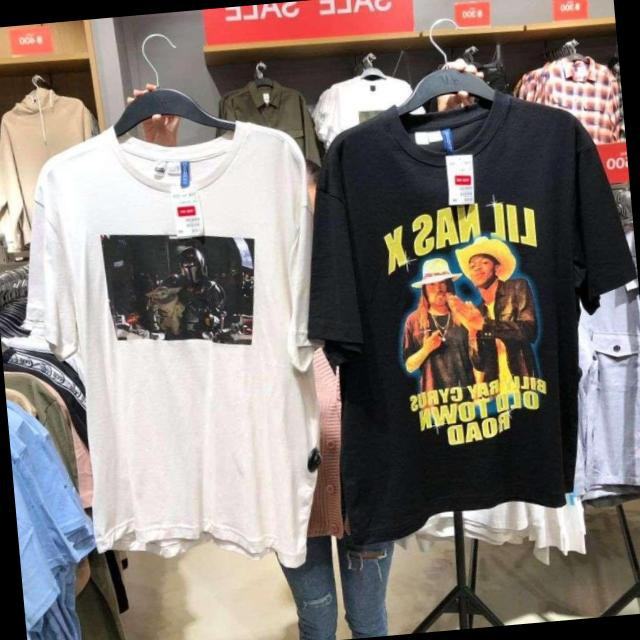Tshirt: (283, 74, 640, 555), (8, 104, 352, 570)
